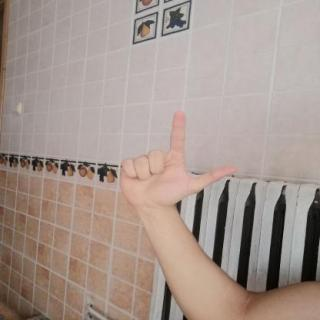LAAM: (110, 105, 243, 218)
